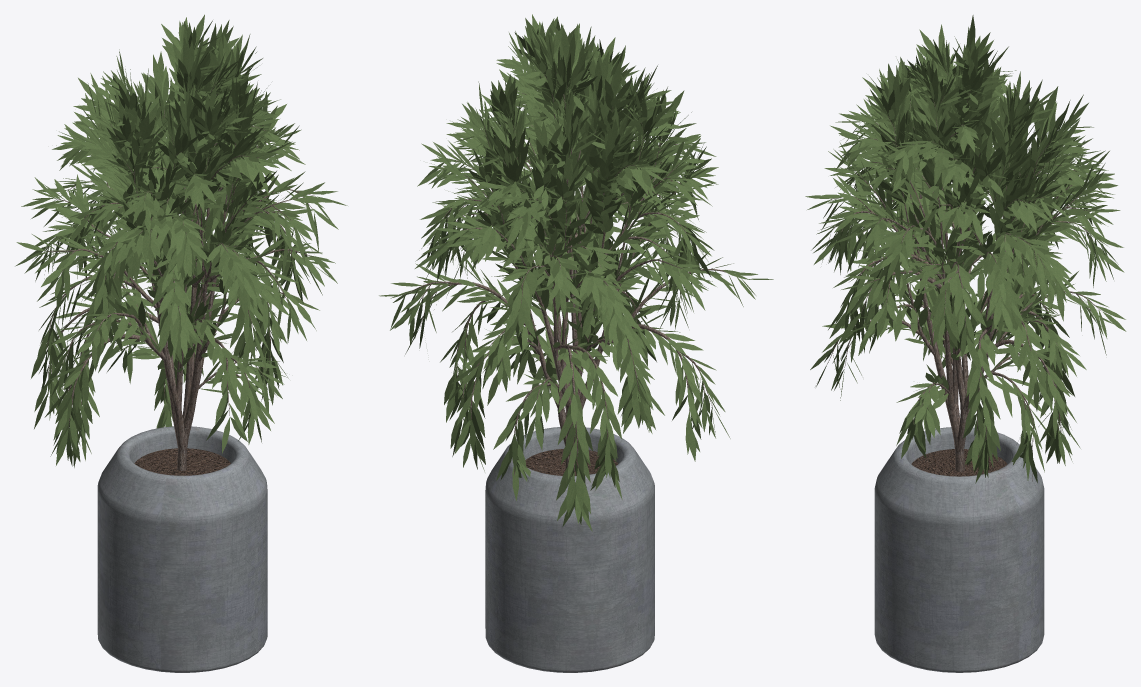
Rendered from potted_tree.glb.
3 renders of one model, left to right at view 1: azimuth 30°, elevation 25°; view 2: azimuth 150°, elevation 25°; view 3: azimuth 270°, elevation 25°, orthographic.
Visible parts, largest first — view 1: Cylinder, tree; view 2: Cylinder, tree; view 3: Cylinder, tree.
Boxes of the visible parts, box(x1,y1,x2,y2) form: Cylinder: box(15, 14, 347, 672); tree: box(45, 78, 315, 470); Cylinder: box(379, 14, 773, 672); tree: box(404, 72, 725, 474); Cylinder: box(805, 15, 1126, 672); tree: box(827, 70, 1101, 481).
Size of the model in its own units: 3.99 by 7.92 by 3.8.
Materials: 4 (4 with a texture image).
